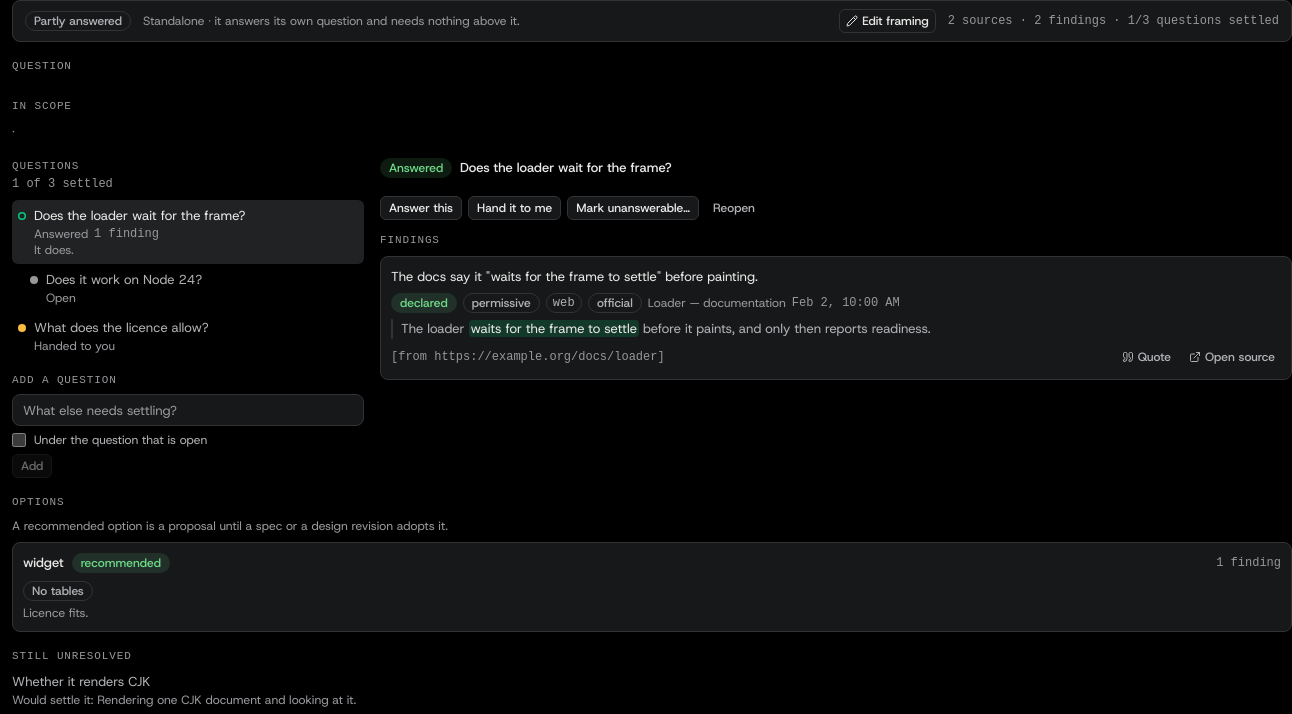
Test: the research detail › locates an overlong scope row before asking the host
Click the button "Edit framing" at x=887, y=21, box [839,9,936,33]
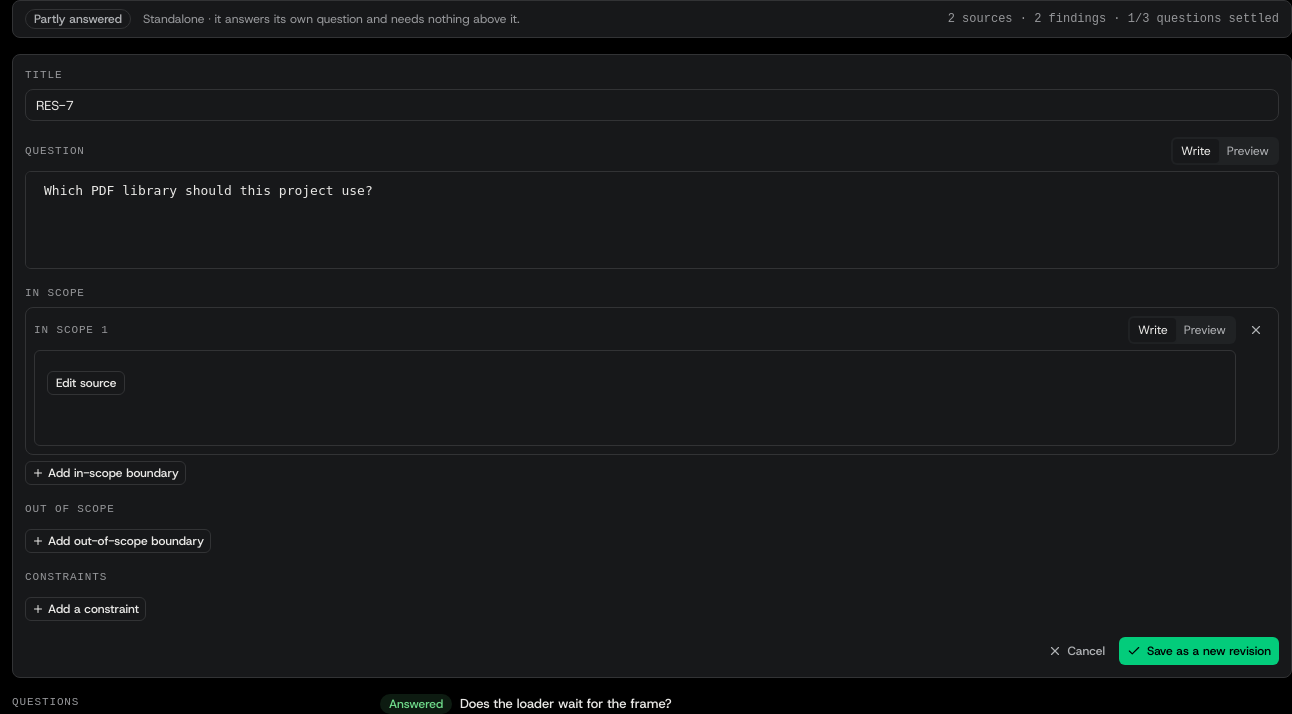
Expected: the button "Save as a new revision" is shown
Click the button "Save as a new revision" at x=1199, y=651, box [1119,637,1279,665]
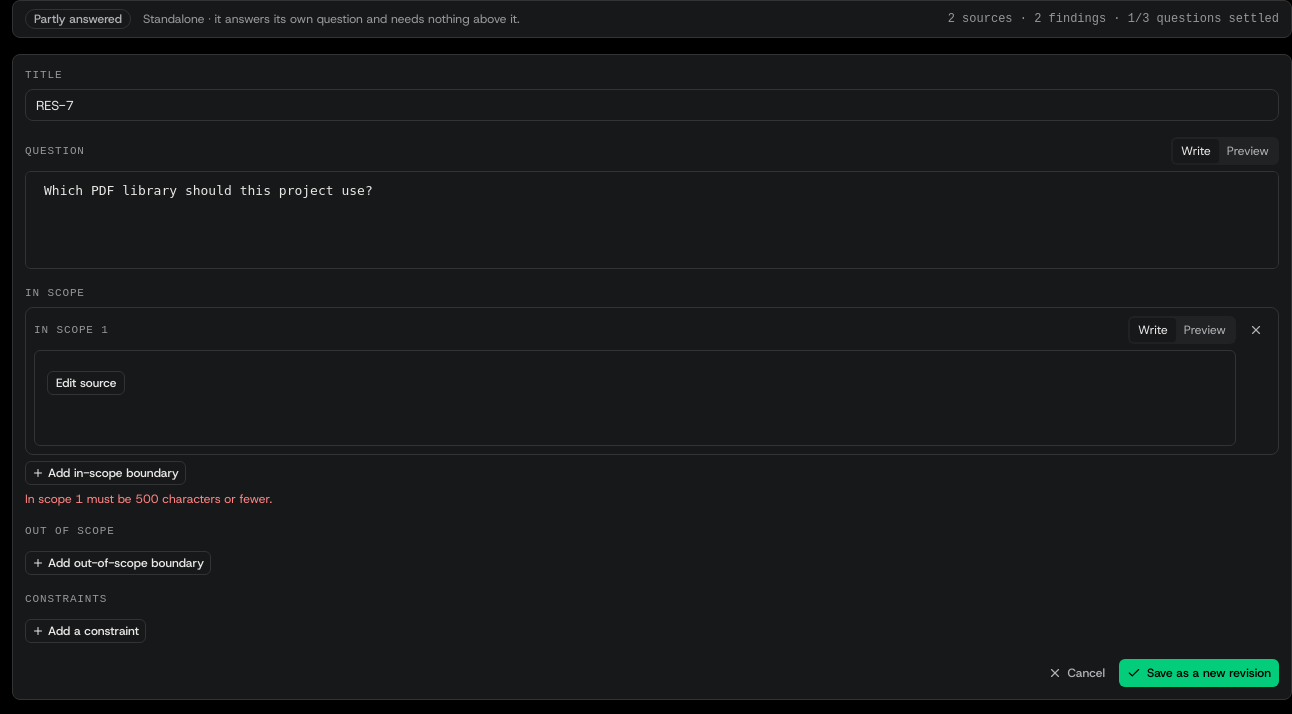
Expected: the text "In scope 1 must be 500 characters or fewer." is shown, [25,491,272,507]
